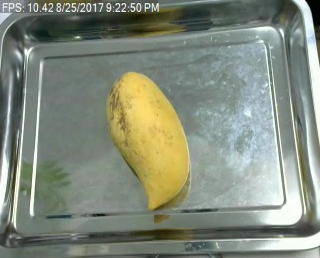Mango: (103, 69, 191, 211)
